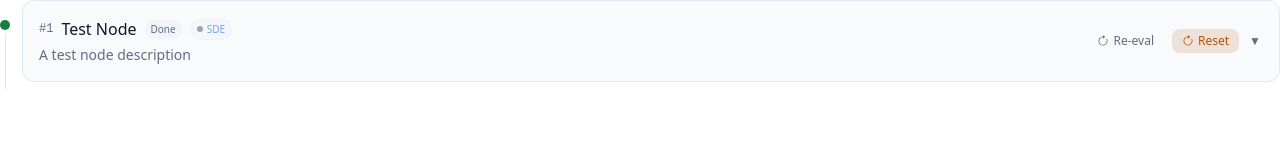
Scenario: MacroNodeCard › shows confirmation strip when Reset is clicked
Step 1. Click the button with aria-label "Reset node to pending" → [1206, 41], box [1172,29,1239,53]
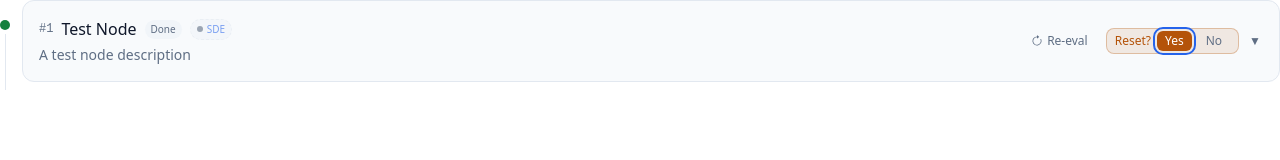
expect the button "Yes" is shown: met, box [1157,31,1192,51]
expect the button "No" is shown: met, box [1198,31,1230,51]
